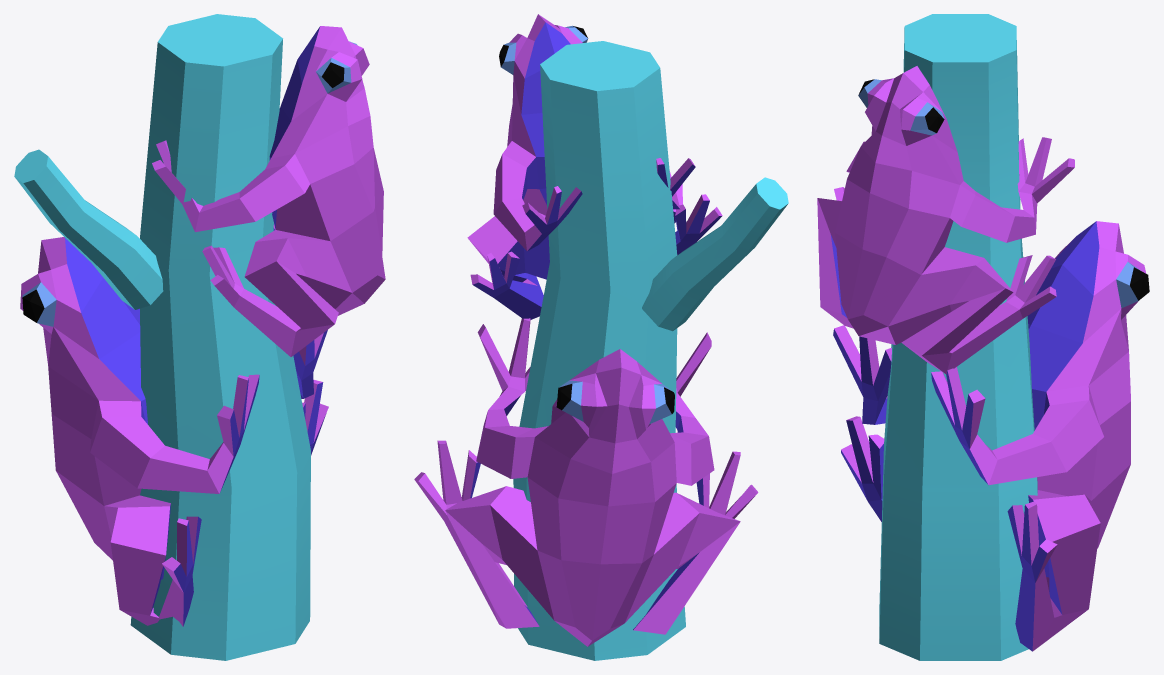
File: 030_Frog.fbx
3 renders of one model, left to right at view 1: azimuth 30°, elevation 25°; view 2: azimuth 150°, elevation 25°; view 3: azimuth 270°, elevation 25°, orthographic. The views are drawn at different scales.
Parts seen in each view (by area): view 1: Frog; view 2: Frog; view 3: Frog.
Part boxes in pixels (left/top/right/bottom): Frog: left=14, top=14, right=385, bottom=660; Frog: left=414, top=14, right=788, bottom=660; Frog: left=817, top=14, right=1149, bottom=660.
Bounding box in the file's own units: 62.45 × 102 × 51.18.
